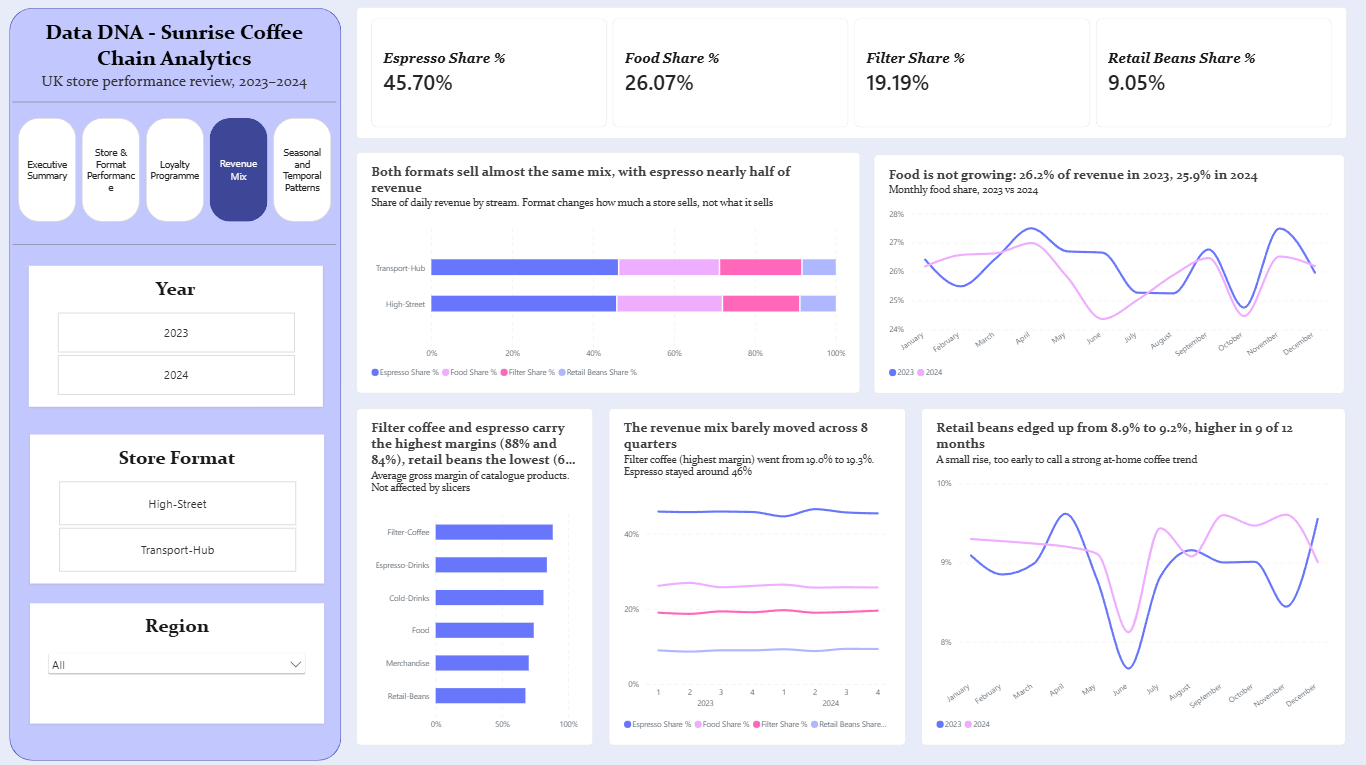

Layout of this report page (visuals, bound fields, positions):
{"tool":"powerbi","page":{"name":"Revenue Mix","canvas":[1920,1080],"ordinal":3},"visuals":[{"type":"shape","box":[0,0,503,1080.6],"z":0},{"type":"cardVisual","fields":{"Data":["_Measures.Espresso Share %","_Measures.Food Share %","_Measures.Filter Share %","_Measures.Retail Beans Share %"]},"box":[504,14,1382,184],"z":1000},{"type":"hundredPercentStackedBarChart","title":"Both formats sell almost the same mix, with espresso nearly half of revenue","fields":{"Category":["dim_store.store_format"],"Y":["_Measures.Espresso Share %","_Measures.Food Share %","_Measures.Filter Share %","_Measures.Retail Beans Share %"]},"box":[503.3,216.7,703.3,336.7],"z":2000},{"type":"lineChart","title":"The revenue mix barely moved across 8 quarters","fields":{"Category":["dim_date.year","dim_date.quarter"],"Y":["_Measures.Espresso Share %","_Measures.Food Share %","_Measures.Filter Share %","_Measures.Retail Beans Share %"]},"box":[856,574,414,470],"z":3000},{"type":"lineChart","title":"Food is not growing: 26.2% of revenue in 2023, 25.9% in 2024","fields":{"Category":["dim_date.month_name"],"Series":["dim_date.year"],"Y":["_Measures.Food Share %"]},"box":[1226.7,220,656.7,333.3],"z":4000},{"type":"lineChart","title":"Retail beans edged up from 8.9% to 9.2%, higher in 9 of 12 months","fields":{"Category":["dim_date.month_name"],"Series":["dim_date.year"],"Y":["_Measures.Retail Beans Share %"]},"box":[1292,574,592,470],"z":5000},{"type":"clusteredBarChart","title":"Filter coffee and espresso carry the highest margins (88% and 84%), retail beans the lowest (68%)","fields":{"Category":["dim_product.product_category"],"Y":["_Measures.Avg Product Gross Margin %"]},"box":[504,574,330,470],"z":6000},{"type":"slicer","title":"Year","fields":{"Values":["dim_date.year"]},"box":[46.7,375,410,196.7],"z":7000},{"type":"slicer","title":"Store Format","fields":{"Values":["dim_store.store_format"]},"box":[48.3,610,410,208.3],"z":8000},{"type":"slicer","title":"Region","fields":{"Values":["dim_store.region"]},"box":[48.3,846.7,410,168.3],"z":9000},{"type":"textbox","title":"Data DNA - Sunrise Coffee Chain Analytics","box":[25,15,451.7,153.3],"z":10000},{"type":"textbox","box":[25,330,451.7,33.3],"z":11000},{"type":"pageNavigator","box":[12.9,154.3,480,175],"z":12000}]}

Visuals, with their boxes in screenshot pixels (x1, y1, x2, y2), scaled from the page's 1920x1080 canvas onto the 1366x765 screenshot:
shape: Rect(0, 0, 358, 764)
cardVisual - _Measures.Espresso Share % x _Measures.Food Share %: Rect(359, 10, 1342, 140)
"Both formats sell almost the same mix, with espresso nearly half of revenue" hundredPercentStackedBarChart: Rect(358, 153, 858, 392)
"The revenue mix barely moved across 8 quarters" lineChart: Rect(609, 407, 904, 740)
"Food is not growing: 26.2% of revenue in 2023, 25.9% in 2024" lineChart: Rect(873, 156, 1340, 392)
"Retail beans edged up from 8.9% to 9.2%, higher in 9 of 12 months" lineChart: Rect(919, 407, 1340, 740)
"Filter coffee and espresso carry the highest margins (88% and 84%), retail beans the lowest (68%)" clusteredBarChart: Rect(359, 407, 593, 740)
"Year" slicer: Rect(33, 266, 325, 405)
"Store Format" slicer: Rect(34, 432, 326, 580)
"Region" slicer: Rect(34, 600, 326, 719)
"Data DNA - Sunrise Coffee Chain Analytics" textbox: Rect(18, 11, 339, 119)
textbox: Rect(18, 234, 339, 257)
pageNavigator: Rect(9, 109, 351, 233)
